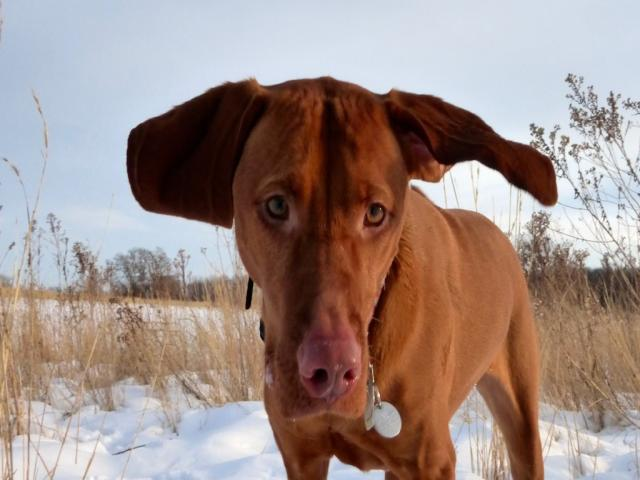Dog: (127, 76, 558, 480)
